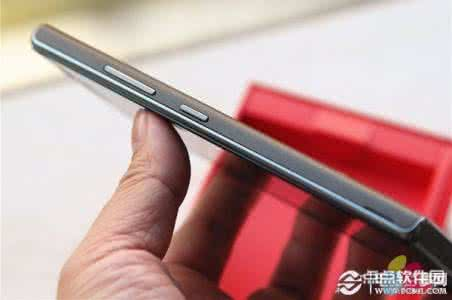phone: (35, 23, 426, 243)
